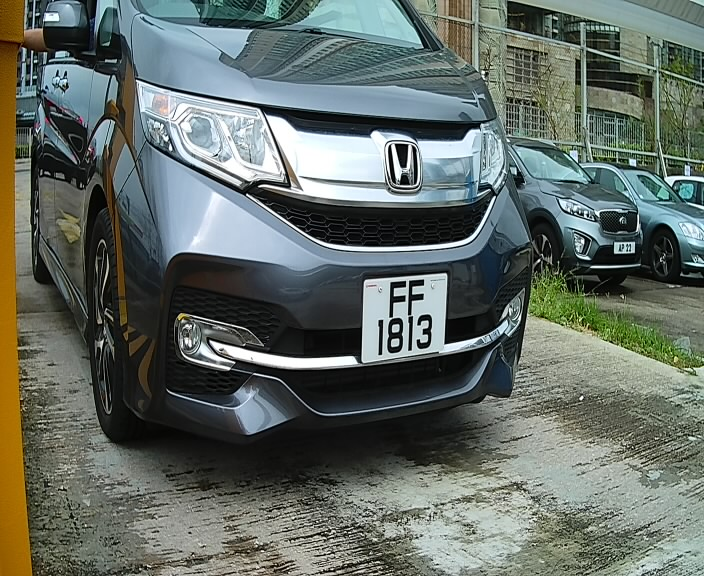Car: (53, 2, 542, 477)
License Plate: (354, 264, 461, 375)
